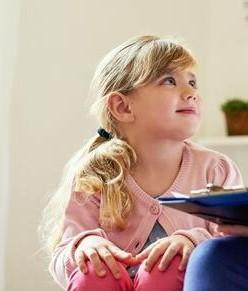Healthy: (106, 26, 208, 146)
